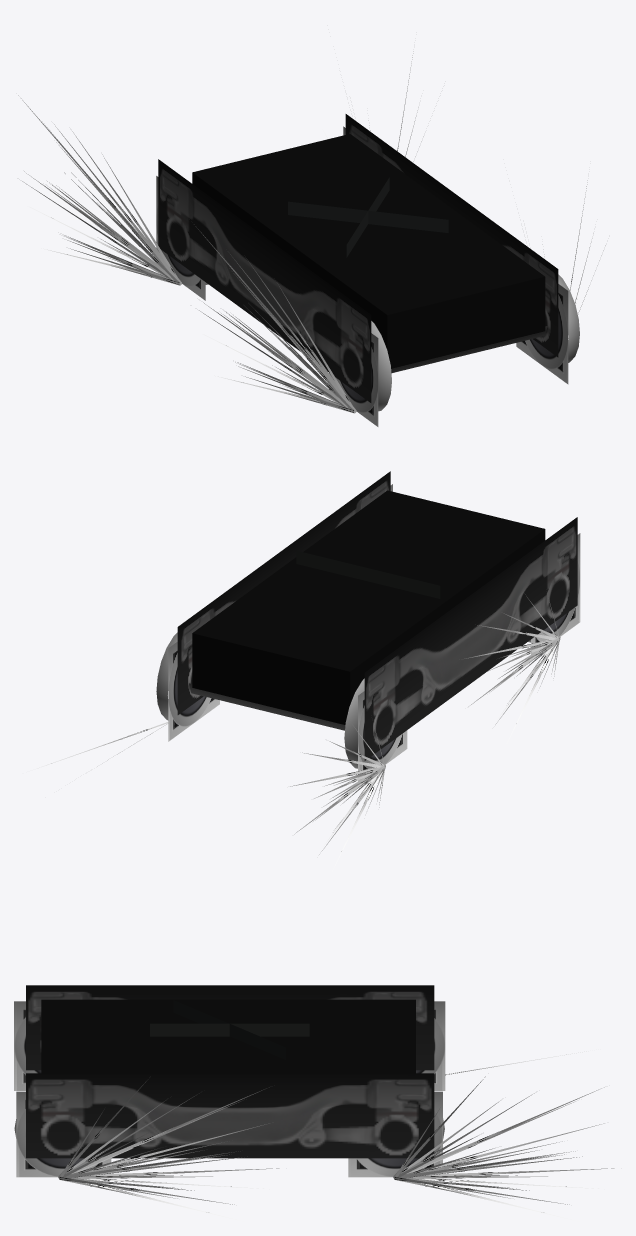
Rendered from K800_TRACK_LOWD4.glb.
3 renders of one model, top to bottom at view 1: azimuth 30°, elevation 25°; view 2: azimuth 150°, elevation 25°; view 3: azimuth 270°, elevation 25°, orthographic. The views are drawn at different scales.
Parts seen in each view (by area): view 1: obj11, FR0, FR1; view 2: obj11, FR0, FR1; view 3: obj11, FL0, FL1.
Part boxes in pixels (x1,y1,x2,y2): obj11: (156,114,579,426); FR0: (194,224,356,413); FR1: (18,95,181,285); obj11: (156,471,580,781); FR0: (464,593,560,738); FR1: (290,723,385,869); obj11: (14,985,445,1177); FL0: (58,1076,279,1219); FL1: (393,1076,614,1219).
Bounding box in the file's own units: 6.84 × 2.99 × 9.89.
Materials: 26 (25 with a texture image).
